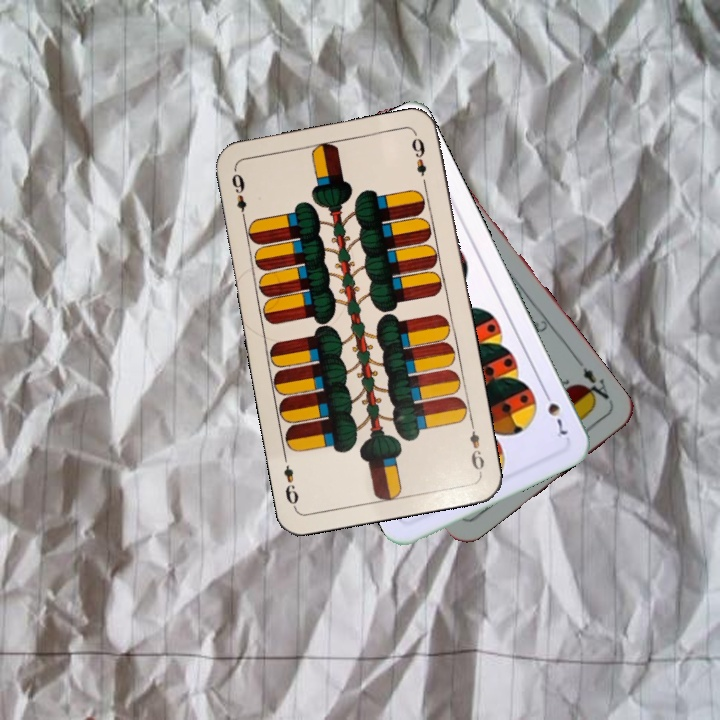E9: (227, 166, 249, 224), (466, 417, 487, 476)
EA: (575, 364, 612, 406)
S7: (539, 385, 571, 440)
